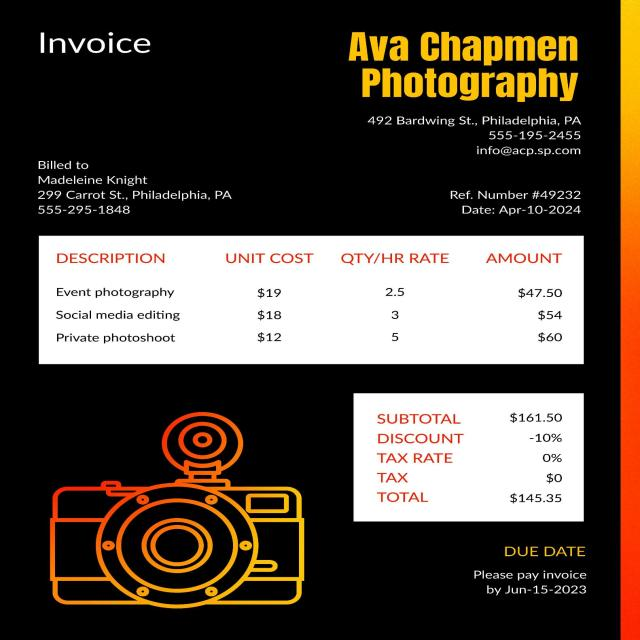paragraph: (371, 403, 579, 516), (347, 27, 583, 108), (20, 154, 248, 223), (349, 114, 586, 162), (476, 538, 598, 604), (441, 184, 590, 223), (30, 24, 158, 65)
table: (46, 243, 580, 352)
